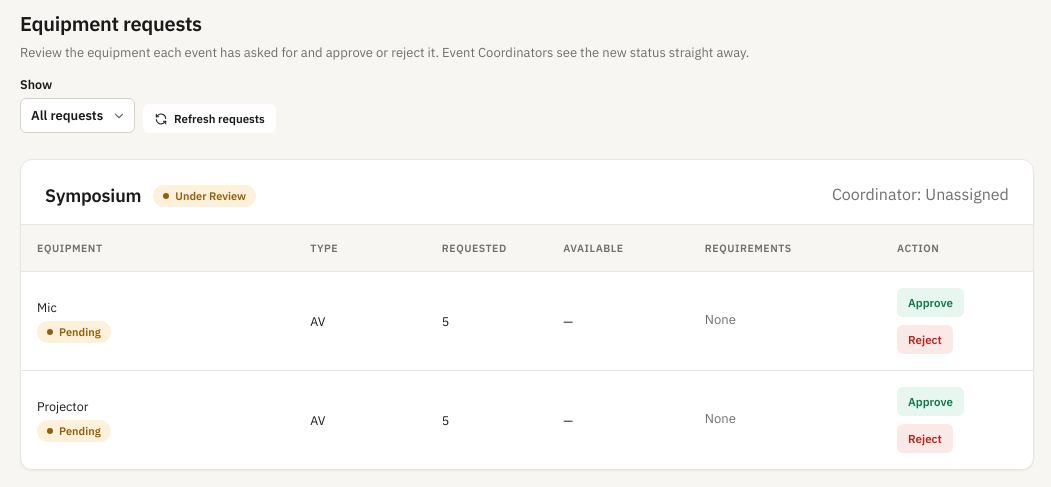
Test: SCRUM-48 supporting target-view decision boundaries › reviewing under Pending removes only the decided target and warns that it left this view
The image size is (1051, 487).
Expected: the text "Mic" is shown, [37,298,57,314]
Step 1. Select "Pending" in the dropdown named "Filter by status" → (78, 116), box [20,98,135,133]
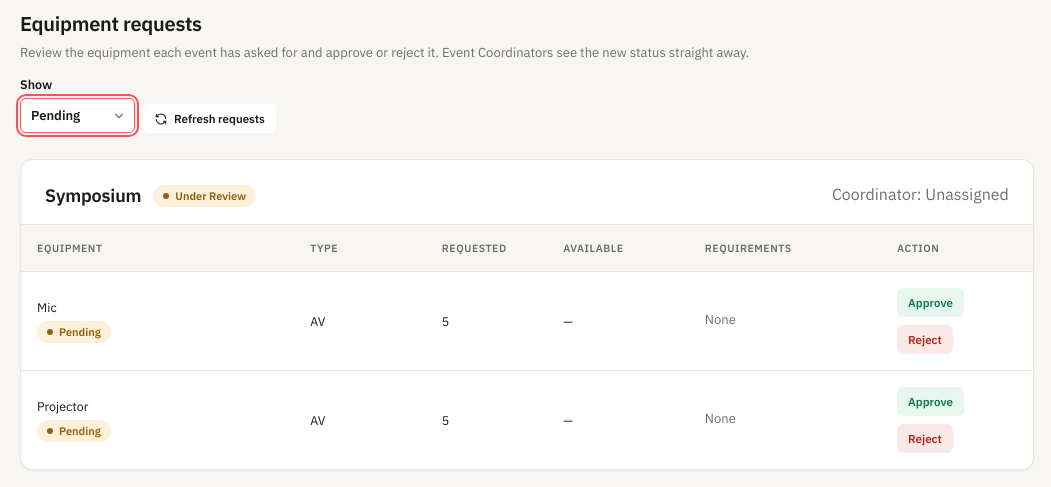
decide one visible target rather than an event-wide batch.
Step 2. Click the button "Approve" in the row of "Mic" → (930, 302), box [897,288,964,316]
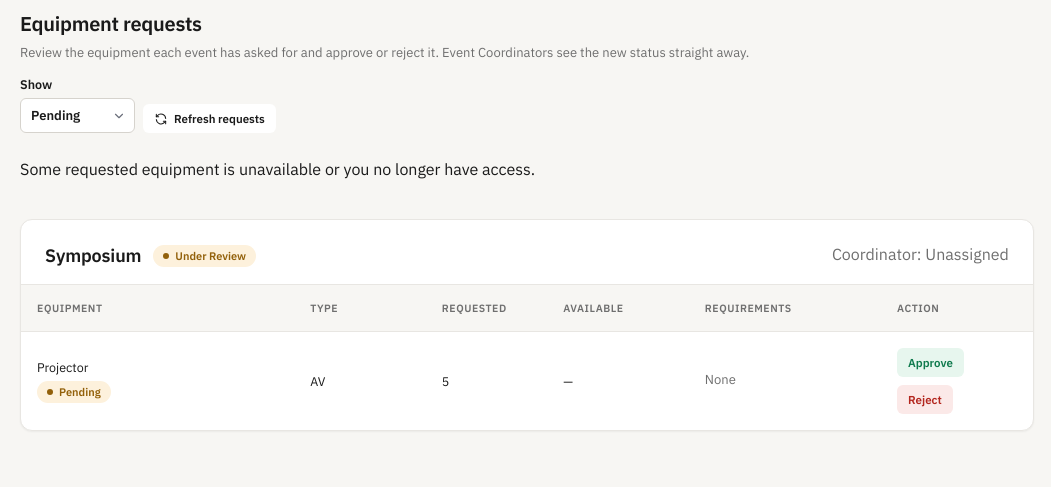
Expected: the text "Projector" is shown, [37,358,88,374]
Result: the text "Mic" is gone
Result: the message reads "Some requested equipment is unavailable or you no longer have access." at [20,159,535,179]
